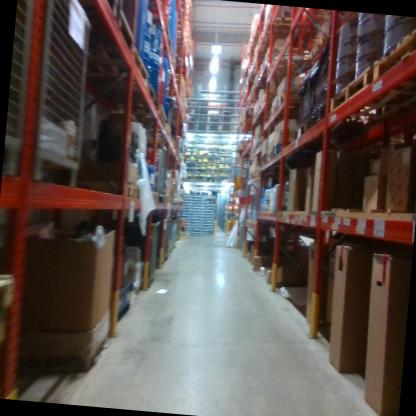pallet: (328, 61, 416, 131), (70, 0, 145, 51), (369, 14, 416, 95), (85, 42, 155, 89), (263, 11, 326, 44), (101, 77, 162, 110), (292, 121, 356, 151), (127, 101, 175, 138), (0, 265, 23, 320), (77, 177, 139, 197), (0, 301, 17, 360), (266, 99, 305, 121), (310, 104, 334, 138), (316, 34, 345, 59), (277, 88, 310, 109), (0, 350, 15, 395), (305, 37, 315, 61)
stillage: (28, 0, 102, 195), (2, 0, 41, 191), (110, 216, 163, 299), (132, 136, 170, 201), (160, 216, 172, 269)
